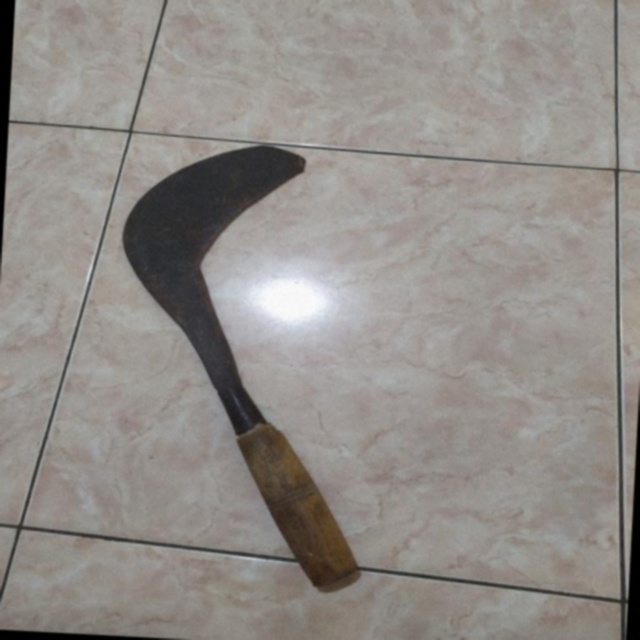Sharp-Object: (94, 108, 404, 598)
